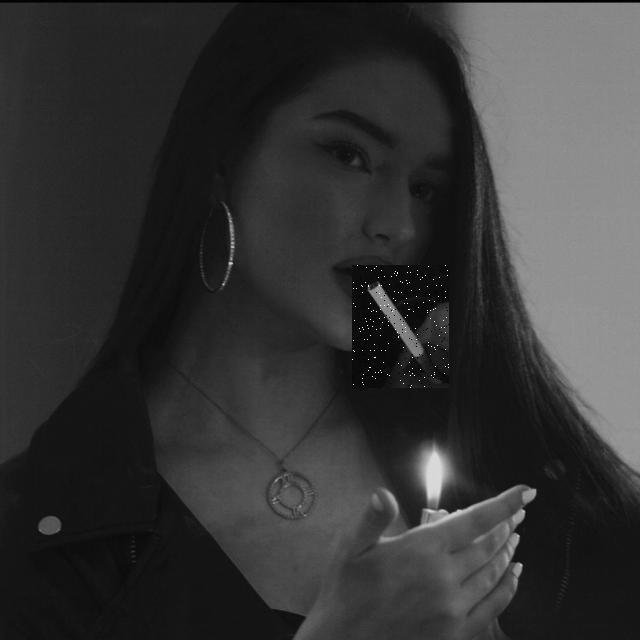smoking: (352, 265, 449, 388)
